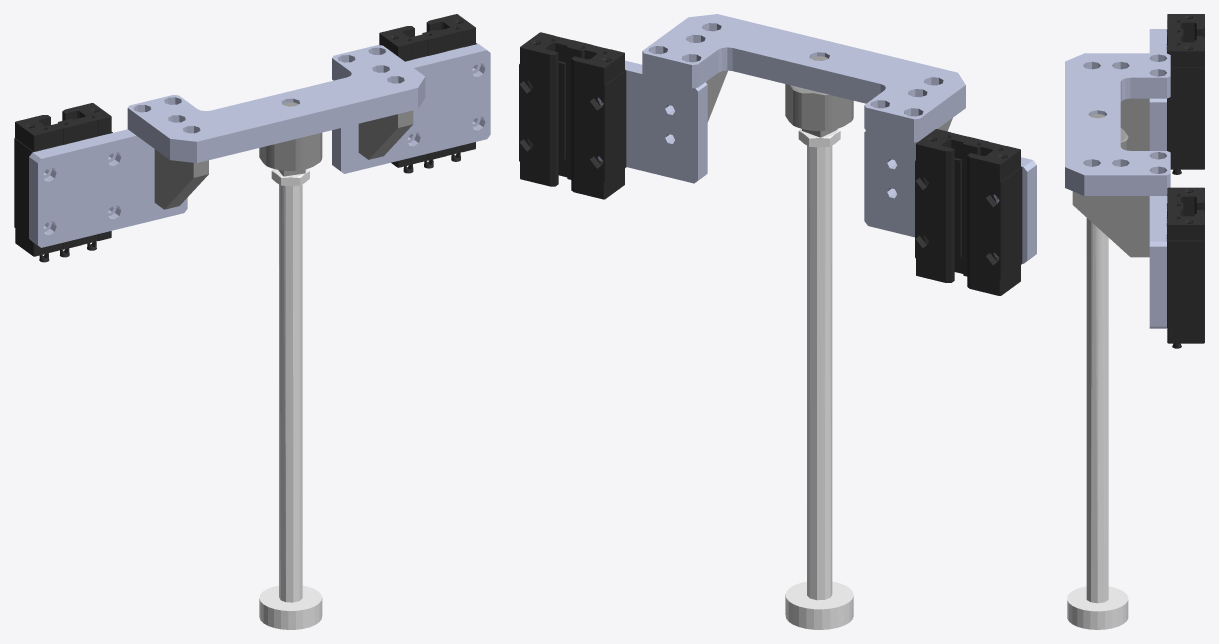
File: push_cylinder_link.dae
The picture shows the model from 3 angles, left to right: view 1: azimuth 30°, elevation 25°; view 2: azimuth 150°, elevation 25°; view 3: azimuth 270°, elevation 25°; orthographic projection. The views are drawn at different scales.
Visible parts, largest first — view 1: node3, node5, node0, node4, node9, node8, node7, node2, node6; view 2: node3, node8, node9, node0, node4, node5, node2; view 3: node3, node0, node8, node9, node6, node4, node7, node5, node2.
Boxes of the visible parts, x1,y1,x2,y2 form: node3: (127,45,425,162); node5: (29,129,187,247); node0: (259,184,322,629); node4: (332,43,490,173); node9: (14,103,112,262); node8: (379,14,476,173); node7: (154,149,208,209); node2: (259,102,322,176); node6: (358,110,413,159); node3: (642,14,965,142); node8: (519,32,626,199); node9: (915,129,1022,295); node0: (785,146,853,629); node4: (597,60,707,183); node5: (864,131,1036,263); node2: (785,56,853,137); node3: (1065,53,1170,195); node0: (1067,218,1128,629); node8: (1166,187,1204,348); node9: (1166,14,1204,174); node6: (1072,191,1149,257); node4: (1149,196,1166,328); node7: (1120,98,1149,150); node5: (1149,29,1166,150); node2: (1090,114,1128,150).
Size of the model in its own units: 0.266 by 0.0728 by 0.2887.
